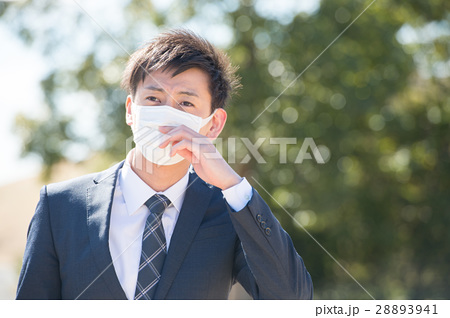mask: (129, 106, 207, 166)
